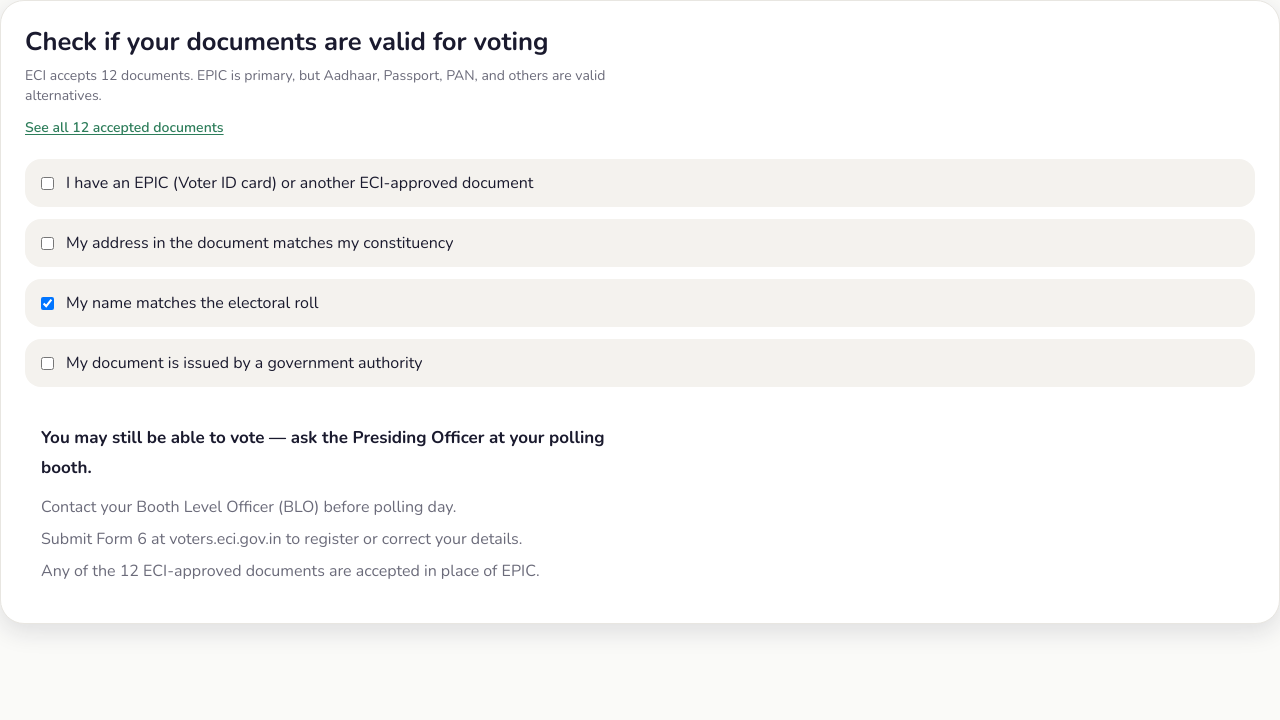
IDChecker › updates the ID result as answers change
What coordinates should you click on to do the following:
click the checkbox labelled "I have an EPIC (Voter ID card) or another ECI-approved document"
I would click on:
 (48, 183)
Its box is [41,177,54,190].
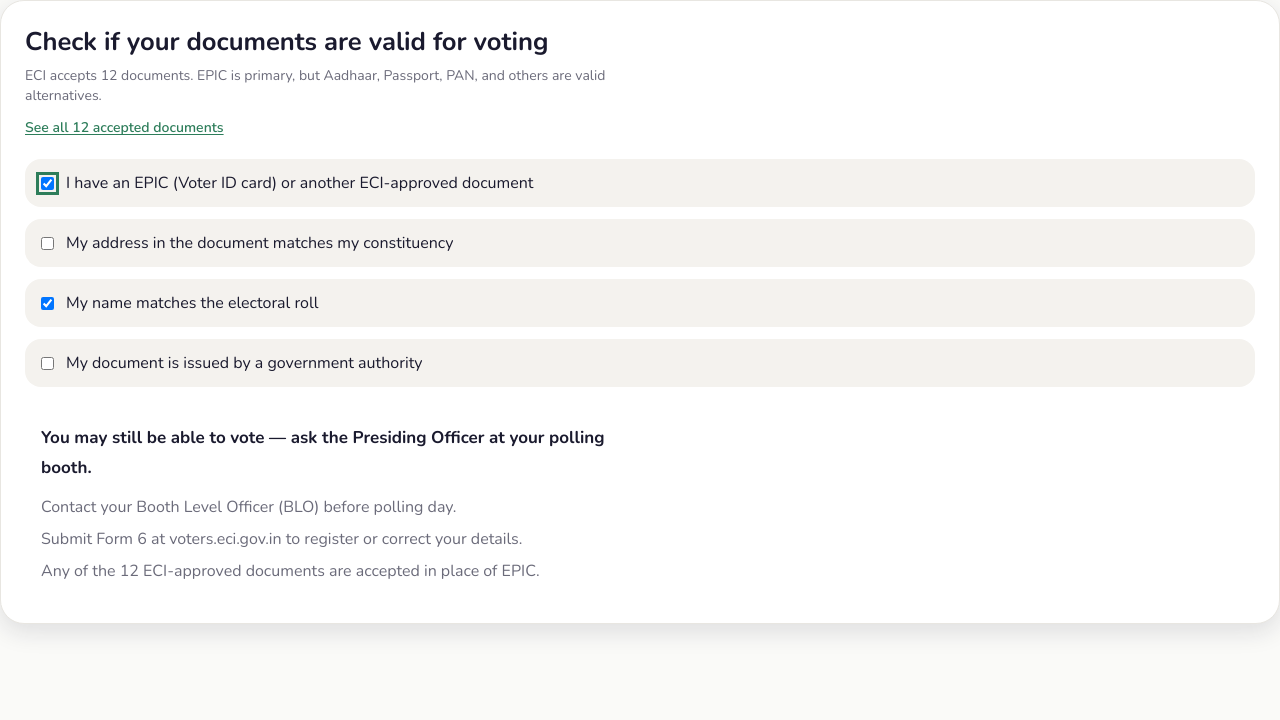
What coordinates should you click on to do the following:
click the checkbox labelled "My address in the document matches my constituency"
I would click on:
 (48, 243)
Its box is [41,237,54,250].
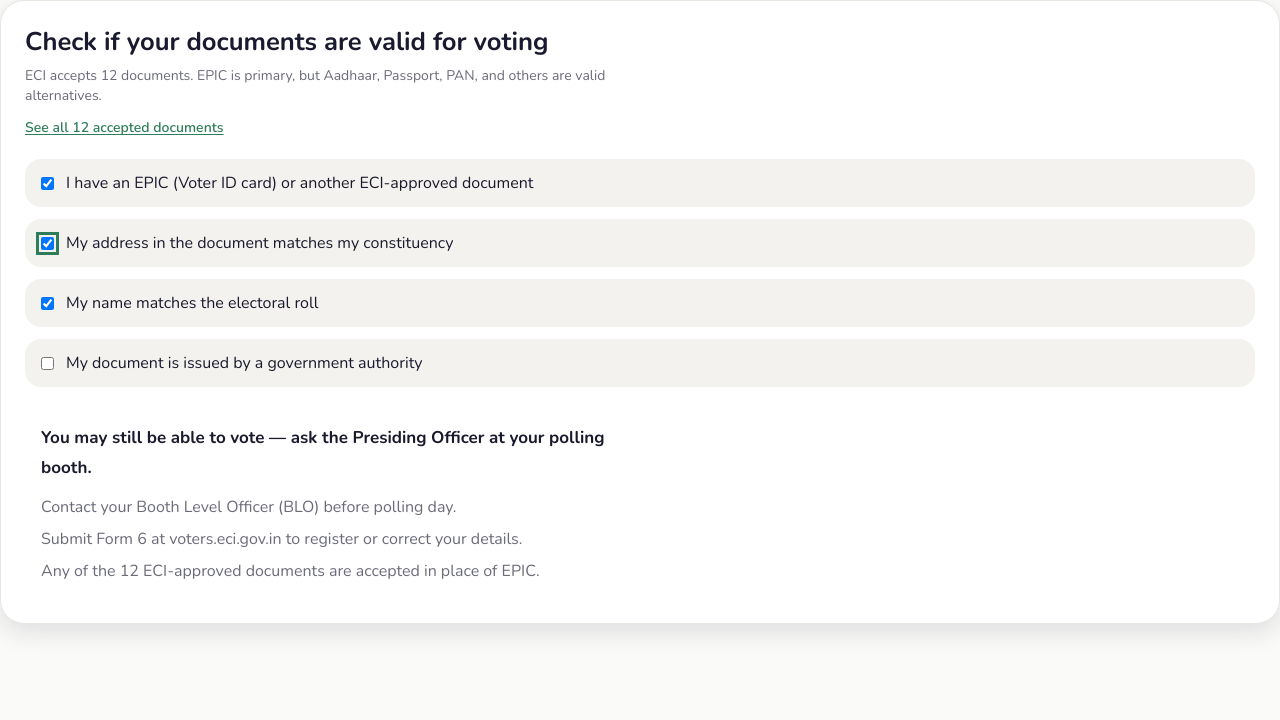
What coordinates should you click on to do the following:
click the checkbox labelled "My document is issued by a government authority"
I would click on:
 (48, 363)
Its box is [41,357,54,370].
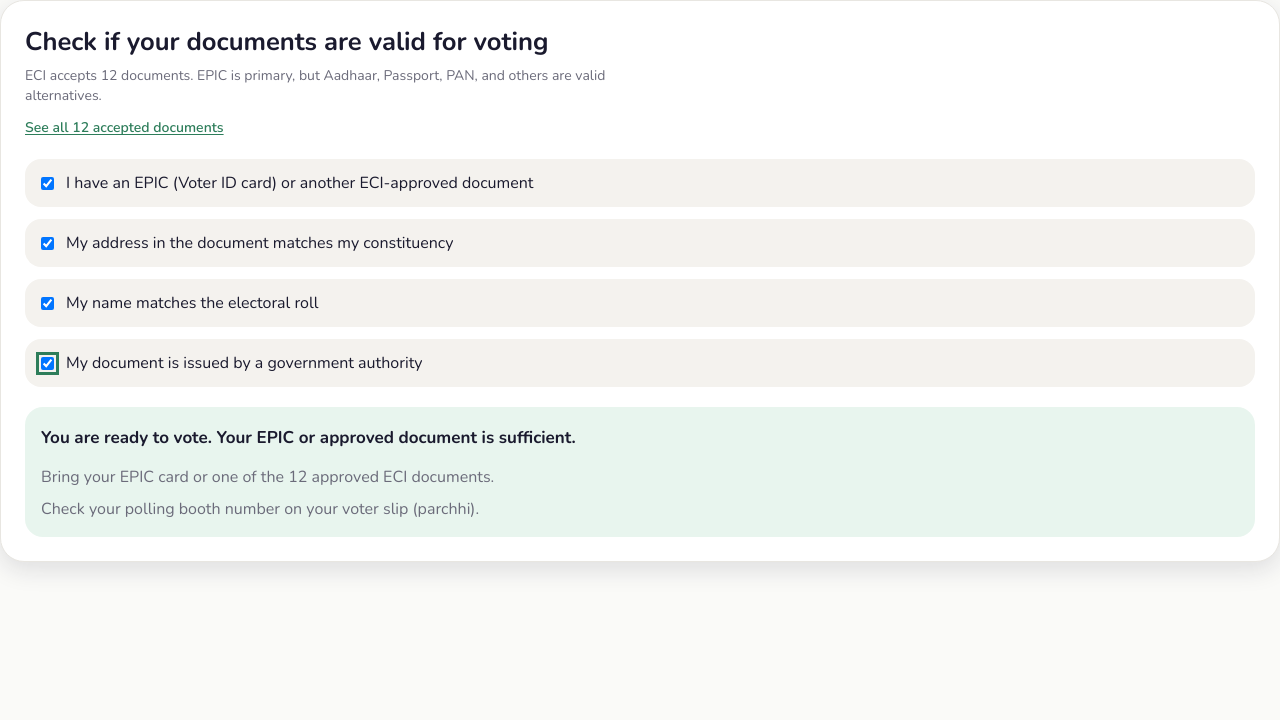
Now the text "You are ready to vote. Your EPIC or approved document is sufficient." is shown, box [41,423,641,453]
